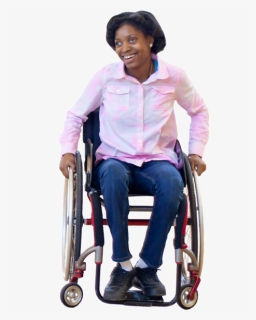wheelchair: (60, 10, 211, 311)
